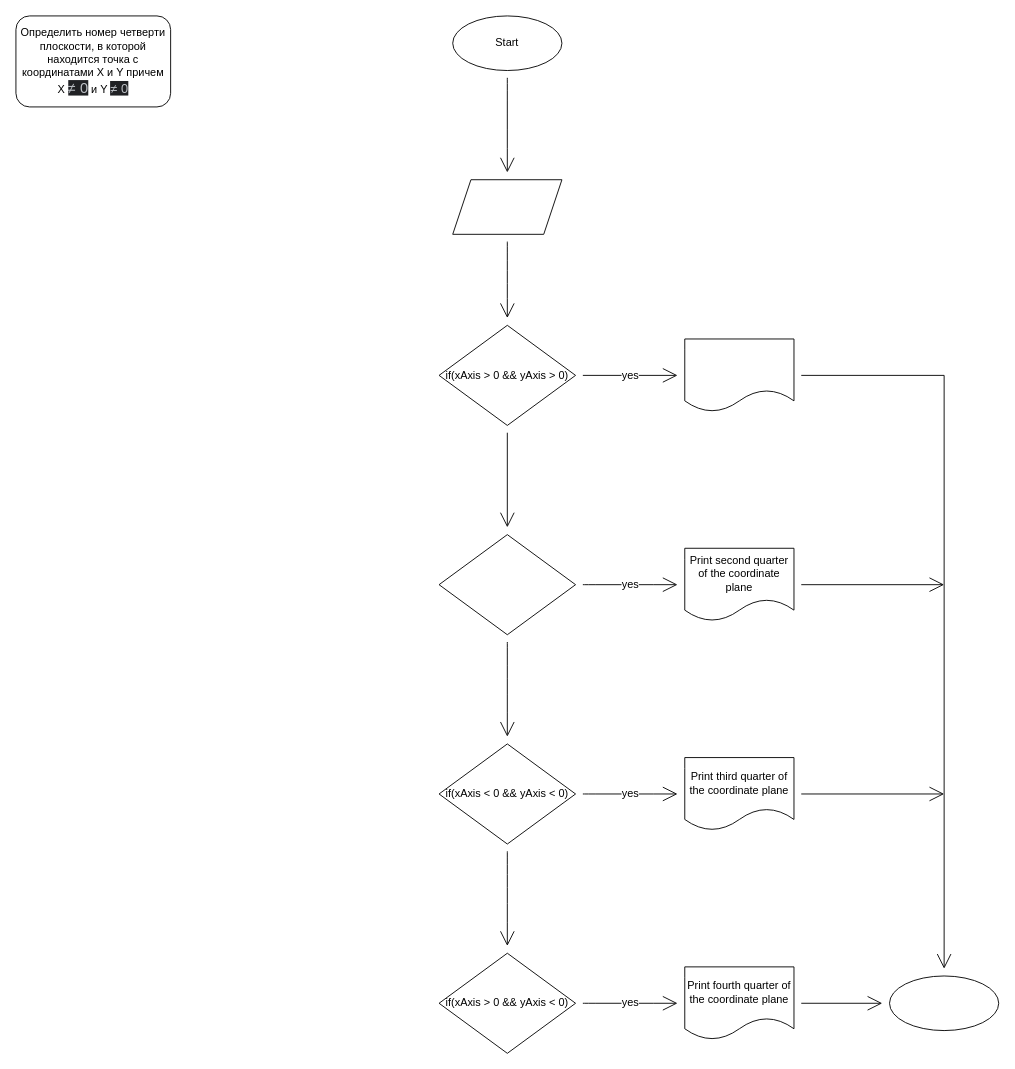
This 1015x1069 diagram has some shape labels left out. The shapes that lost their labels are listed below. From the top down, each one's centre as x and y in pixels, then its label:
[507,206]: xAxis, yAxis
[739,375]: Print first quarter of the coordinate plane
[507,584]: if(xAxis < 0 && yAxis > 0)
[944,1003]: End
